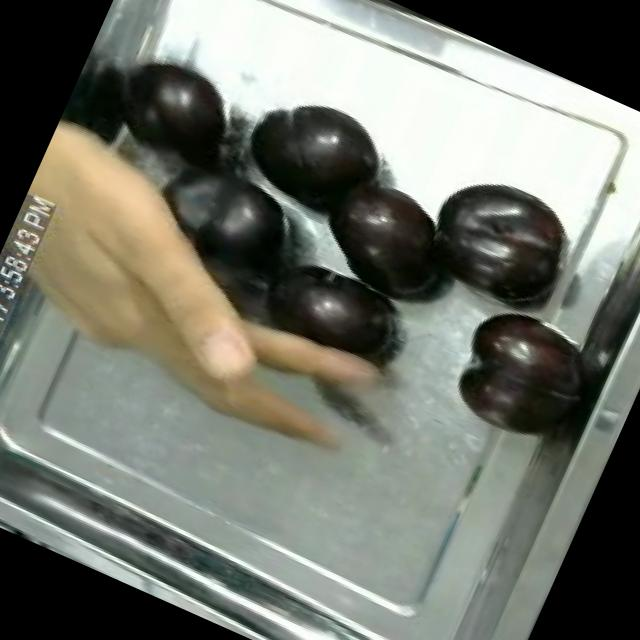Fruit: (400, 153, 590, 330), (214, 68, 404, 242), (433, 291, 603, 460), (295, 152, 470, 312), (92, 33, 258, 191)
